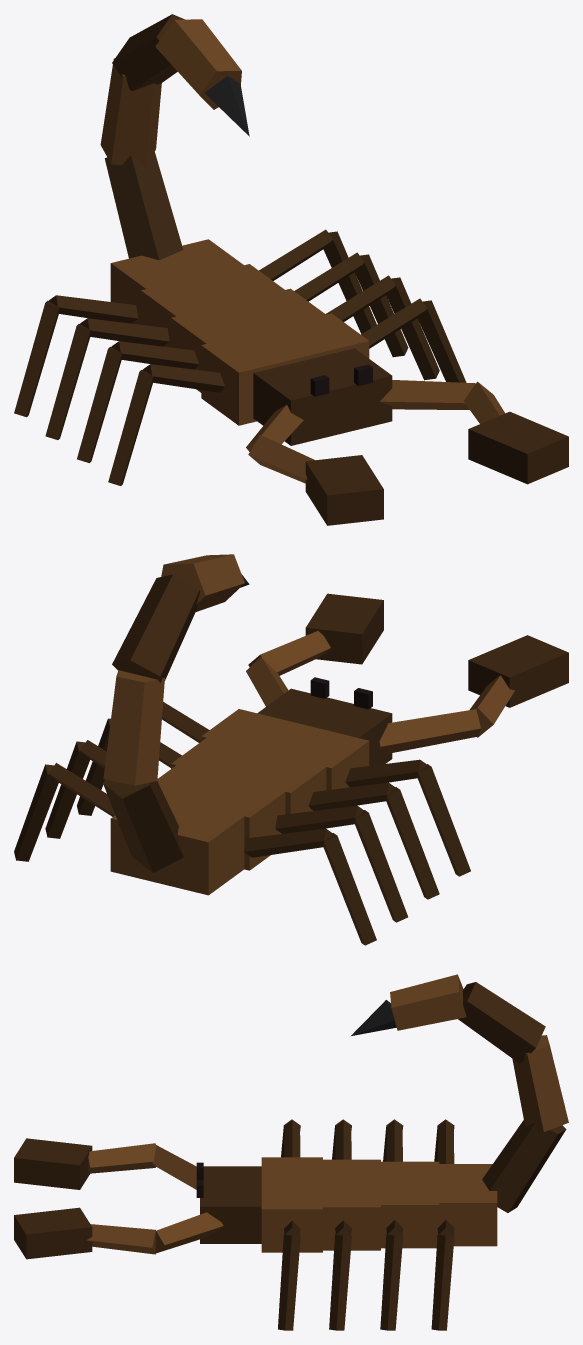
Rendered from scorpion.glb.
The picture shows the model from 3 angles, top to bottom: view 1: azimuth 30°, elevation 25°; view 2: azimuth 150°, elevation 25°; view 3: azimuth 270°, elevation 25°; orthographic projection. The views are drawn at different scales.
Parts seen in each view (by area): view 1: scorpion, scorpion_dark, Tail_scorpion, Tail_scorpion_dark, Leg3_scorpion_dark, Leg2_scorpion_dark, Leg1_scorpion_dark, Leg0_scorpion_dark, Leg5_scorpion_dark, Leg4_scorpion_dark, Leg7_scorpion_dark, Leg6_scorpion_dark (+2 smaller); view 2: scorpion, scorpion_dark, Tail_scorpion_dark, Tail_scorpion, Leg3_scorpion_dark, Leg2_scorpion_dark, Leg1_scorpion_dark, Leg0_scorpion_dark, Leg7_scorpion_dark, Leg6_scorpion_dark, Leg5_scorpion_dark, Leg4_scorpion_dark (+1 smaller); view 3: scorpion, scorpion_dark, Tail_scorpion_dark, Tail_scorpion, Leg7_scorpion_dark, Leg6_scorpion_dark, Leg5_scorpion_dark, Leg4_scorpion_dark, Leg3_scorpion_dark, Tail_spider, Leg2_scorpion_dark, Leg1_scorpion_dark (+1 smaller).
Boxes of the visible parts, x1,y1,x2,y2 form: scorpion: [110, 239, 505, 483]; scorpion_dark: [253, 348, 568, 525]; Tail_scorpion: [100, 19, 241, 166]; Tail_scorpion_dark: [104, 14, 184, 260]; Leg3_scorpion_dark: [14, 295, 138, 417]; Leg2_scorpion_dark: [45, 318, 169, 439]; Leg1_scorpion_dark: [77, 341, 199, 463]; Leg0_scorpion_dark: [108, 364, 224, 485]; Leg5_scorpion_dark: [326, 275, 439, 380]; Leg4_scorpion_dark: [361, 298, 466, 382]; Leg7_scorpion_dark: [259, 229, 376, 333]; Leg6_scorpion_dark: [294, 252, 408, 357]; scorpion: [110, 631, 514, 895]; scorpion_dark: [257, 593, 568, 765]; Tail_scorpion_dark: [103, 574, 200, 872]; Tail_scorpion: [103, 554, 244, 785]; Leg3_scorpion_dark: [244, 828, 376, 945]; Leg2_scorpion_dark: [275, 805, 407, 922]; Leg1_scorpion_dark: [308, 782, 439, 899]; Leg0_scorpion_dark: [345, 759, 470, 876]; Leg7_scorpion_dark: [14, 763, 115, 861]; Leg6_scorpion_dark: [45, 740, 106, 838]; Leg5_scorpion_dark: [77, 718, 181, 815]; Leg4_scorpion_dark: [162, 702, 209, 742]; scorpion: [86, 1143, 497, 1254]; scorpion_dark: [14, 1138, 261, 1259]; Tail_scorpion_dark: [458, 982, 566, 1212]; Tail_scorpion: [390, 974, 568, 1131]; Leg7_scorpion_dark: [431, 1220, 454, 1330]; Leg6_scorpion_dark: [380, 1220, 403, 1330]; Leg5_scorpion_dark: [329, 1220, 351, 1330]; Leg4_scorpion_dark: [278, 1220, 300, 1330]; Leg3_scorpion_dark: [434, 1119, 454, 1163]; Tail_spider: [351, 1000, 396, 1035]; Leg2_scorpion_dark: [383, 1119, 403, 1161]; Leg1_scorpion_dark: [332, 1119, 351, 1159].
Size of the model in its own units: 1 by 0.9211 by 1.62.
